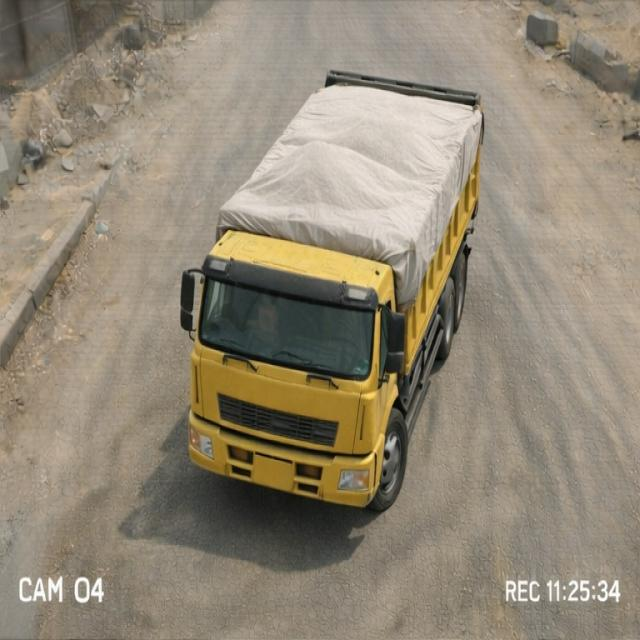trailer: (216, 69, 482, 261)
truck: (173, 64, 498, 520)
